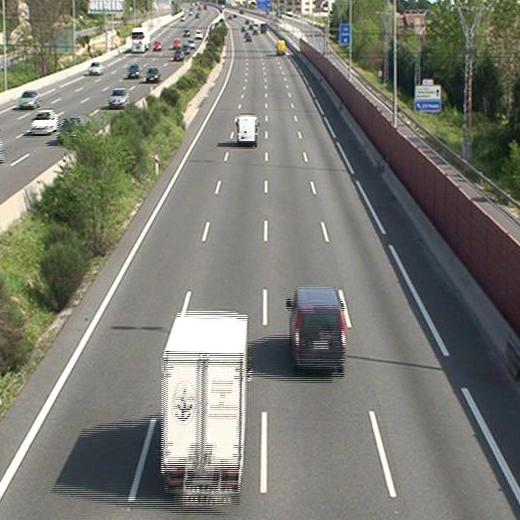small-truck: (157, 311, 247, 506)
van: (285, 287, 348, 371), (236, 114, 258, 144), (275, 38, 286, 55)
